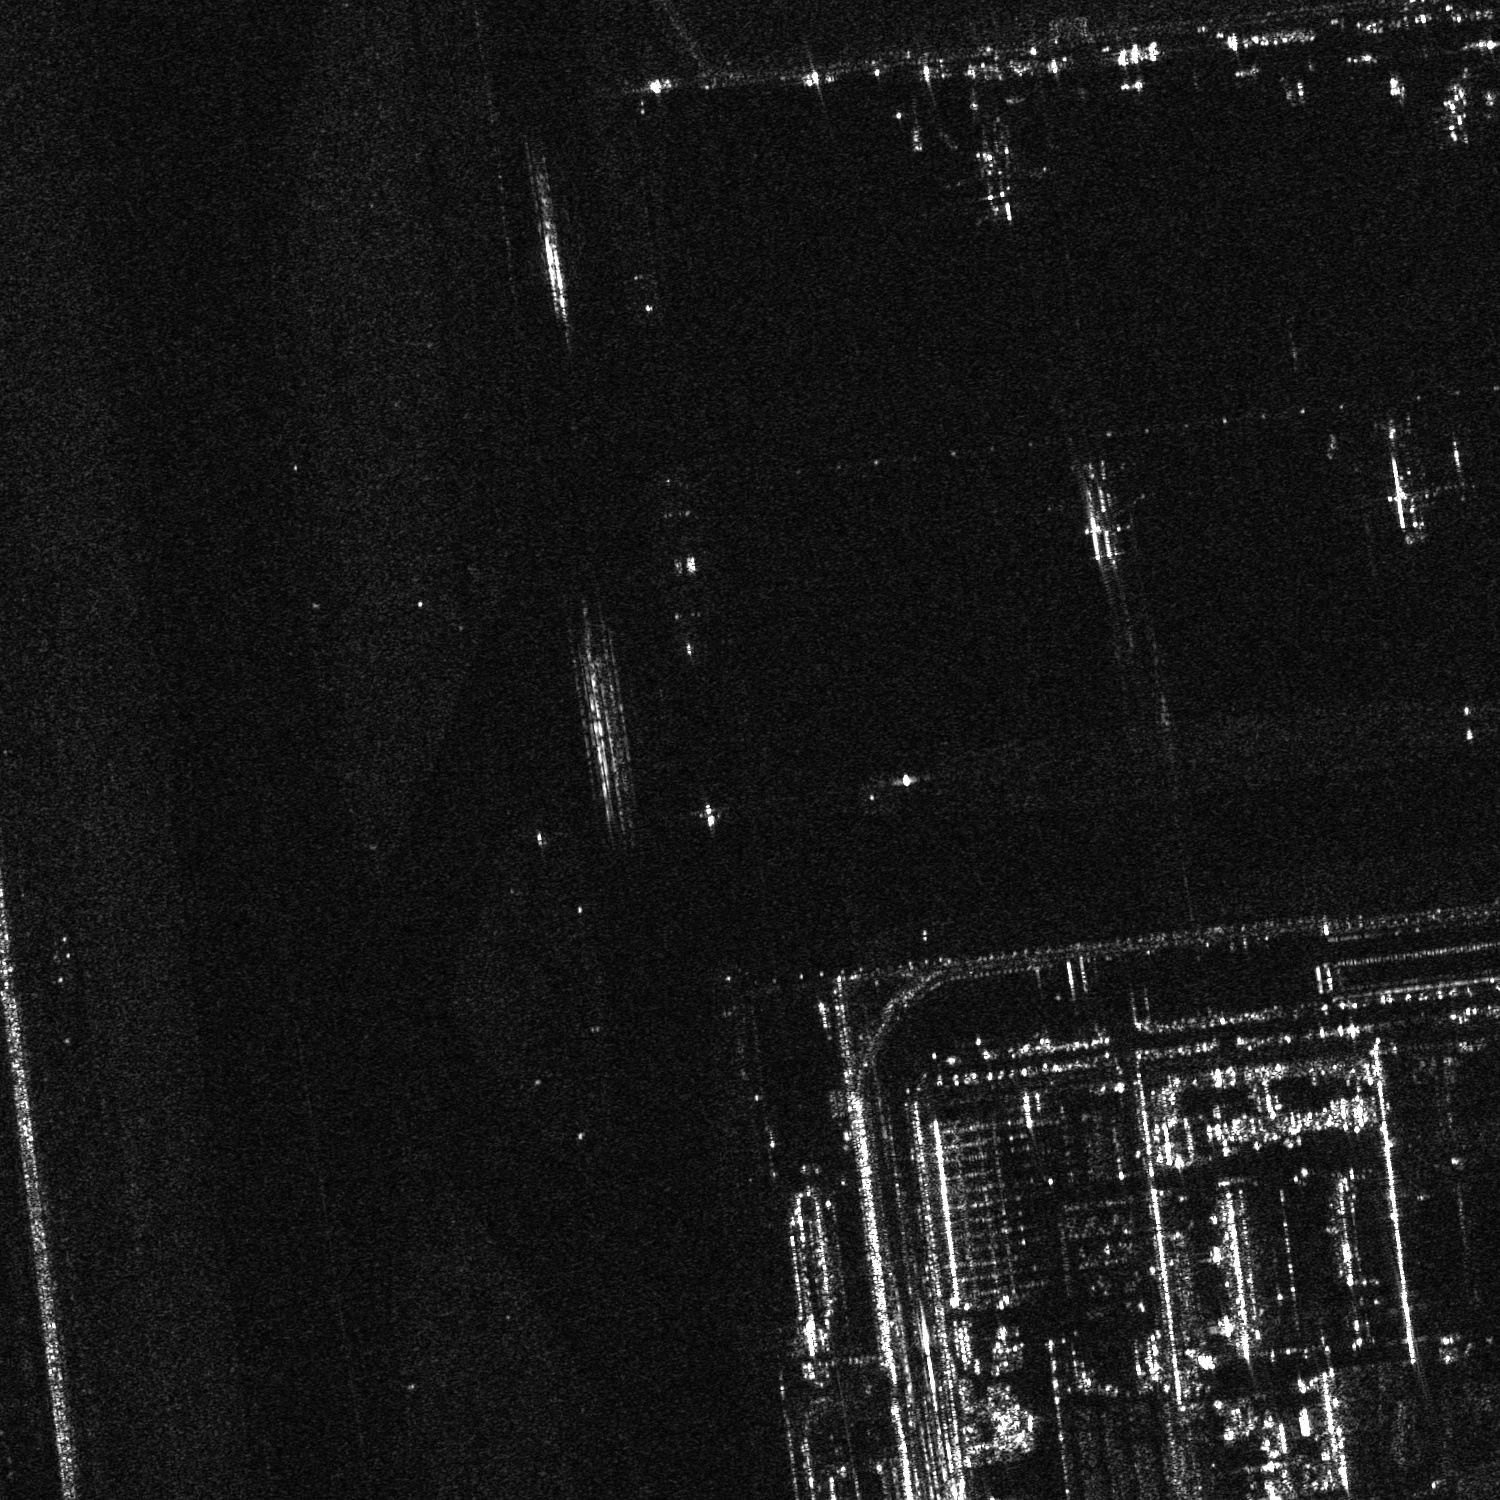A220: (1427, 78, 1488, 141)
A320/321: (935, 135, 1054, 234)
